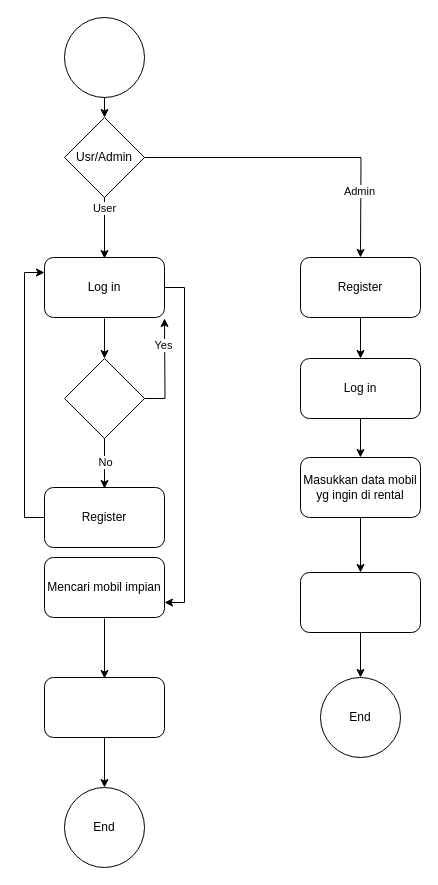
The diagram is 438 pixels wide and 885 high, and some of its shapes have lost their labels. The shapes that lost their labels are listed below. From the top down, each one's centre as x and y in pixels, then its label:
(x=104, y=57): Start
(x=104, y=398): Sudah mempunya akun?
(x=360, y=602): Publish produk untuk di homepage
(x=104, y=707): Hubungi perental yg nomornya sudah tertera
